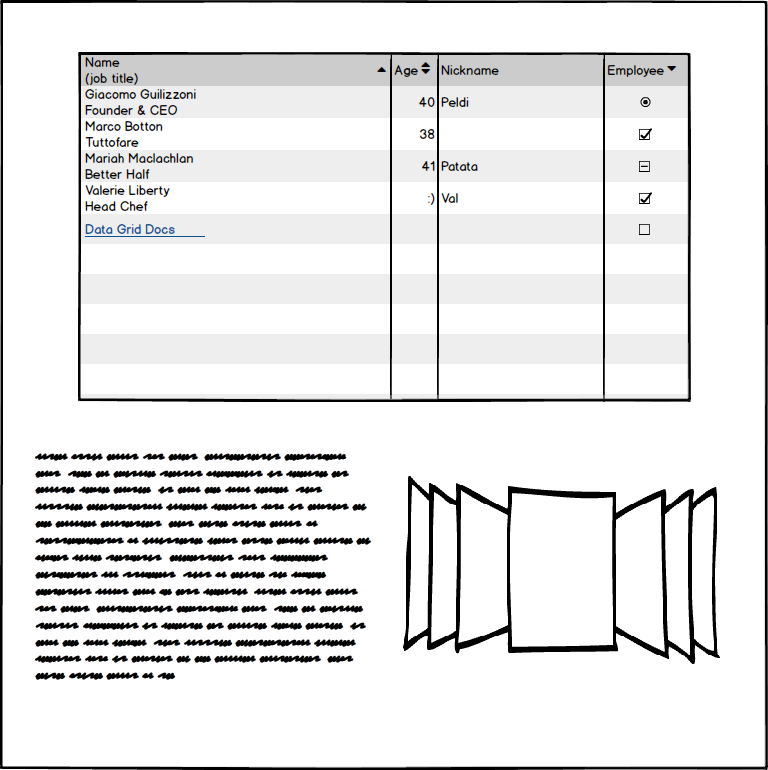p: (27, 446, 378, 688)
slideshow: (396, 467, 729, 677)
table: (71, 43, 702, 409)
